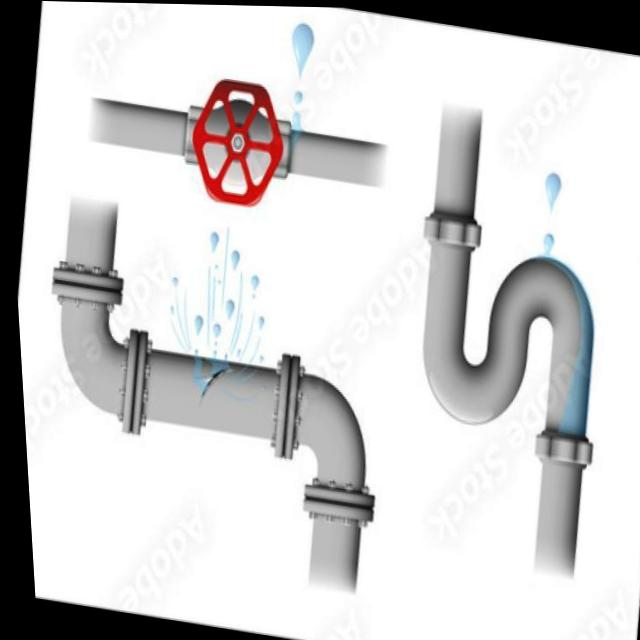leak: (171, 230, 266, 373), (538, 235, 593, 436), (294, 27, 312, 70), (546, 174, 561, 210), (292, 112, 302, 142)
